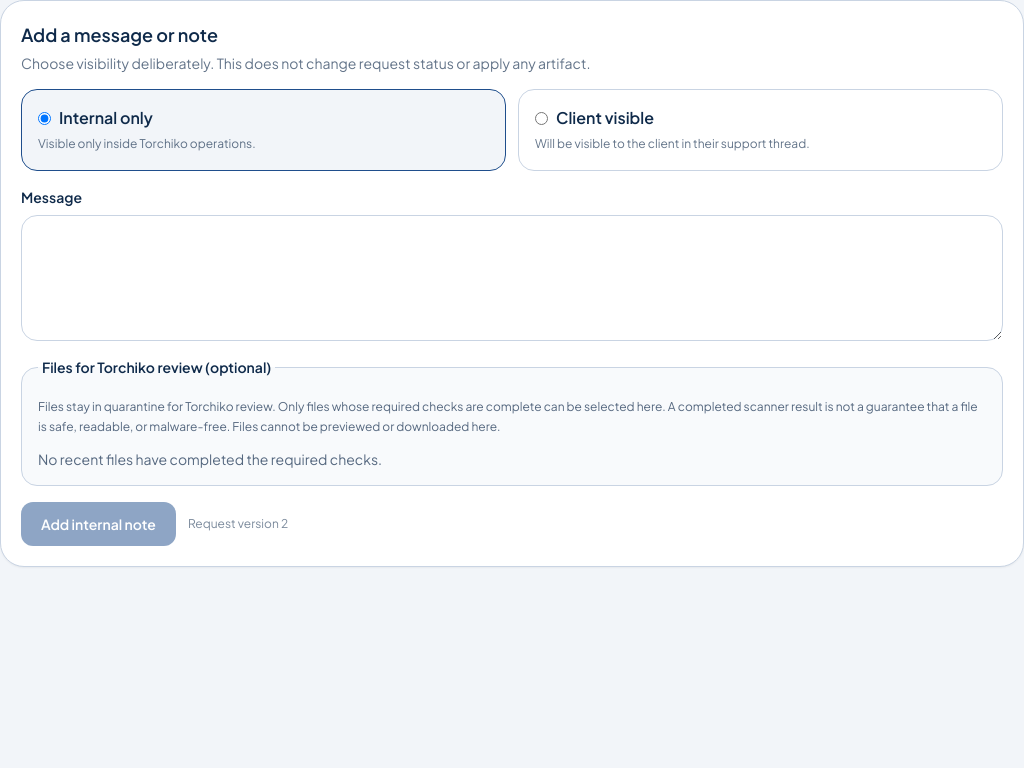
Scenario: support operations UI › retains the draft and blocks retry after a version conflict
Type "Keep this note" into the text box labelled "Message".
click(512, 278); type("Keep this note")  # box [21,215,1003,341]
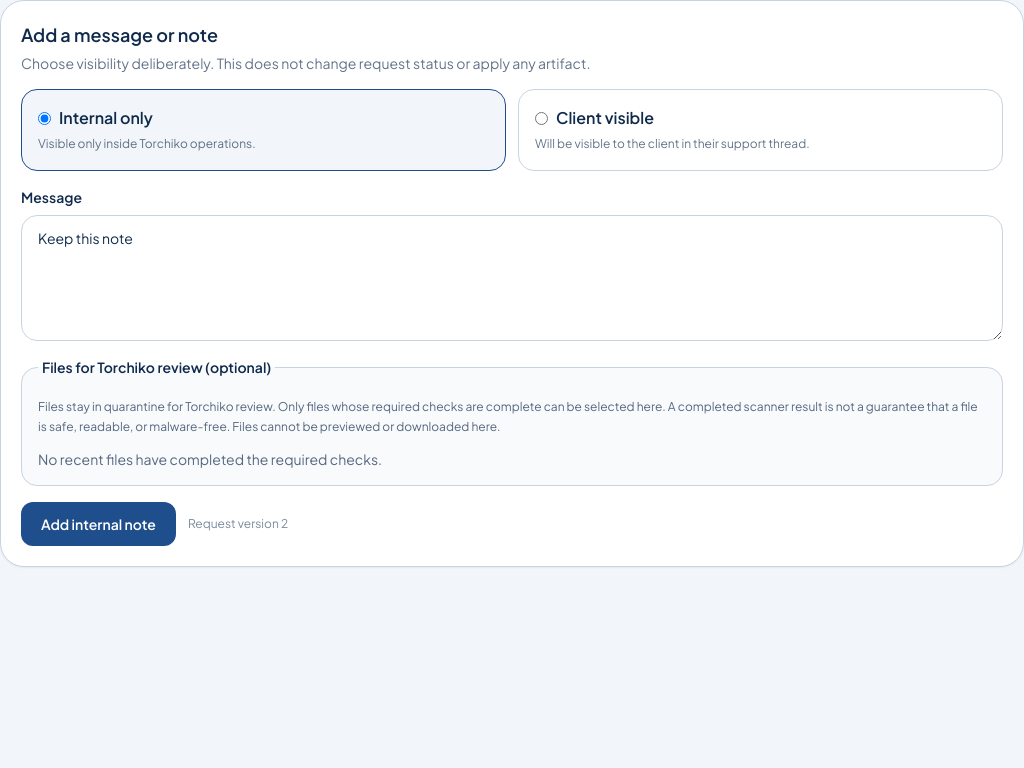
Click the button "Add internal note".
click(98, 524)  # box [21,502,176,546]
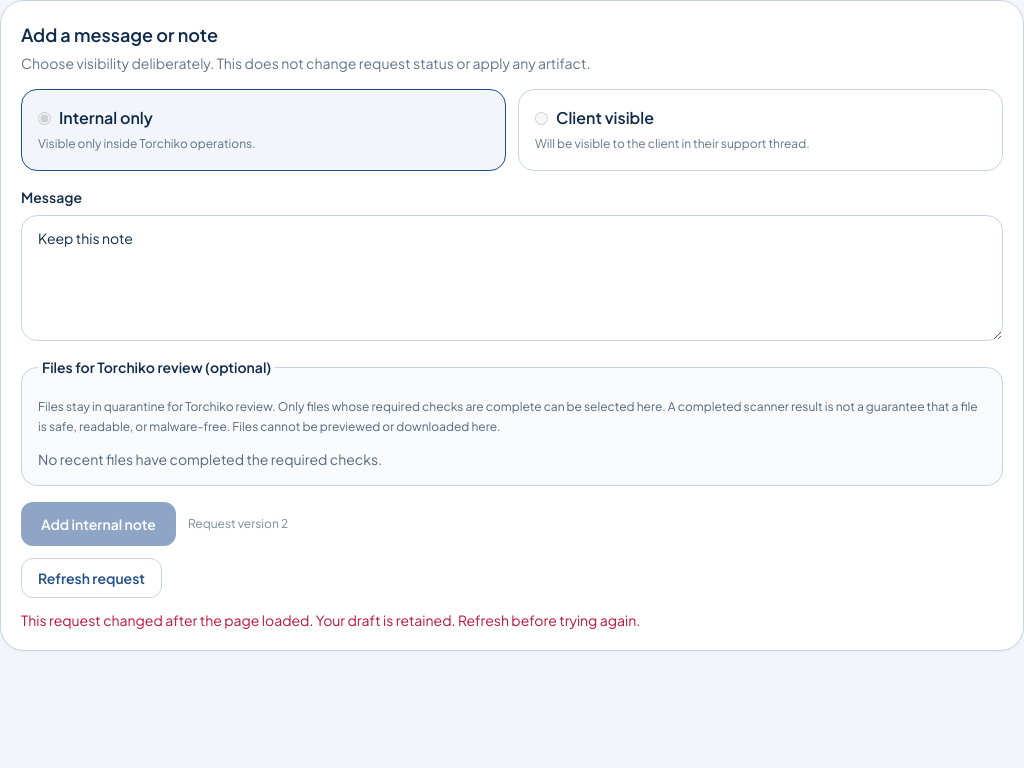
Expected: the message shows "draft is retained", [21,611,640,629]
Expected: the button "Refresh request" is shown
Expected: the button "Add internal note" is disabled, [21,502,176,546]
Click the button "Refresh request".
click(92, 578)  # box [21,558,162,598]
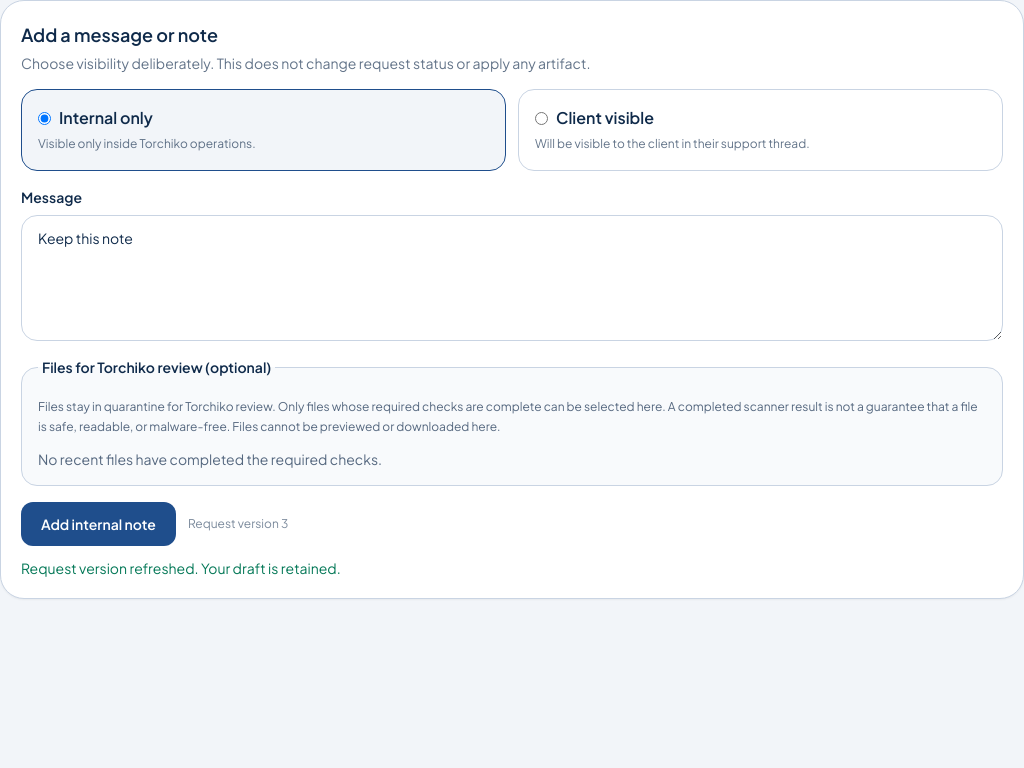
Expected: the text "Request version refreshed. Your draft is retained." is shown, [21,559,341,577]
Expected: the button "Add internal note" is enabled, [21,502,176,546]
Expected: the text "Request version 3" is shown, [188,516,288,532]
